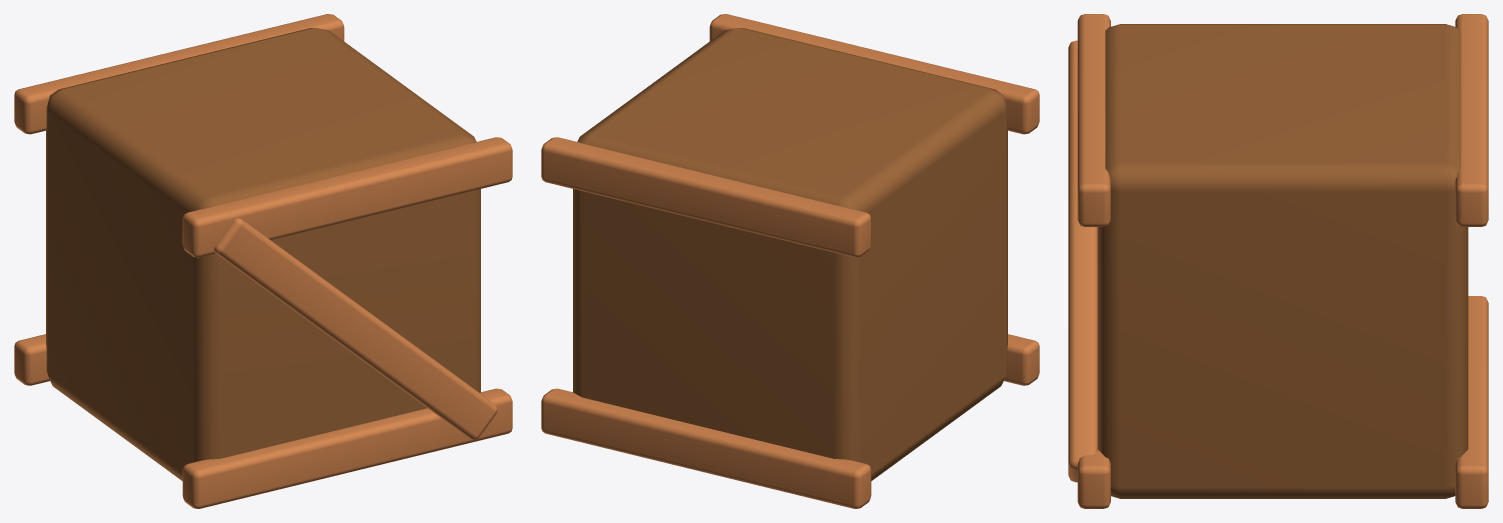
Rendered from NJD-15.glb.
3 renders of one model, left to right at view 1: azimuth 30°, elevation 25°; view 2: azimuth 150°, elevation 25°; view 3: azimuth 270°, elevation 25°, orthographic. The views are drawn at different scales.
Visible parts, largest first — view 1: crate, frame.002, diagonal brace, frame, frame.003, frame.001; view 2: crate, frame.003, frame.001, frame.002, frame; view 3: crate, diagonal brace, frame.002, frame.003, frame.001, frame.
Boxes of the visible parts, <box> form: crate: <box>46,28,480,480</box>; frame.002: <box>182,137,512,257</box>; diagonal brace: <box>214,218,497,439</box>; frame: <box>182,388,512,508</box>; frame.003: <box>14,14,344,134</box>; frame.001: <box>14,334,49,385</box>; crate: <box>573,28,1007,480</box>; frame.003: <box>541,137,871,257</box>; frame.001: <box>541,388,871,508</box>; frame.002: <box>709,14,1039,134</box>; frame: <box>1004,334,1039,385</box>; crate: <box>1098,24,1468,498</box>; diagonal brace: <box>1068,40,1097,482</box>; frame.002: <box>1077,14,1110,226</box>; frame.003: <box>1455,14,1488,226</box>; frame.001: <box>1455,296,1488,508</box>; frame: <box>1077,450,1110,508</box>.
Bounding box in the file's own units: 1.12 × 1 × 1.14.
